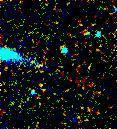star: (27, 70, 57, 100)
